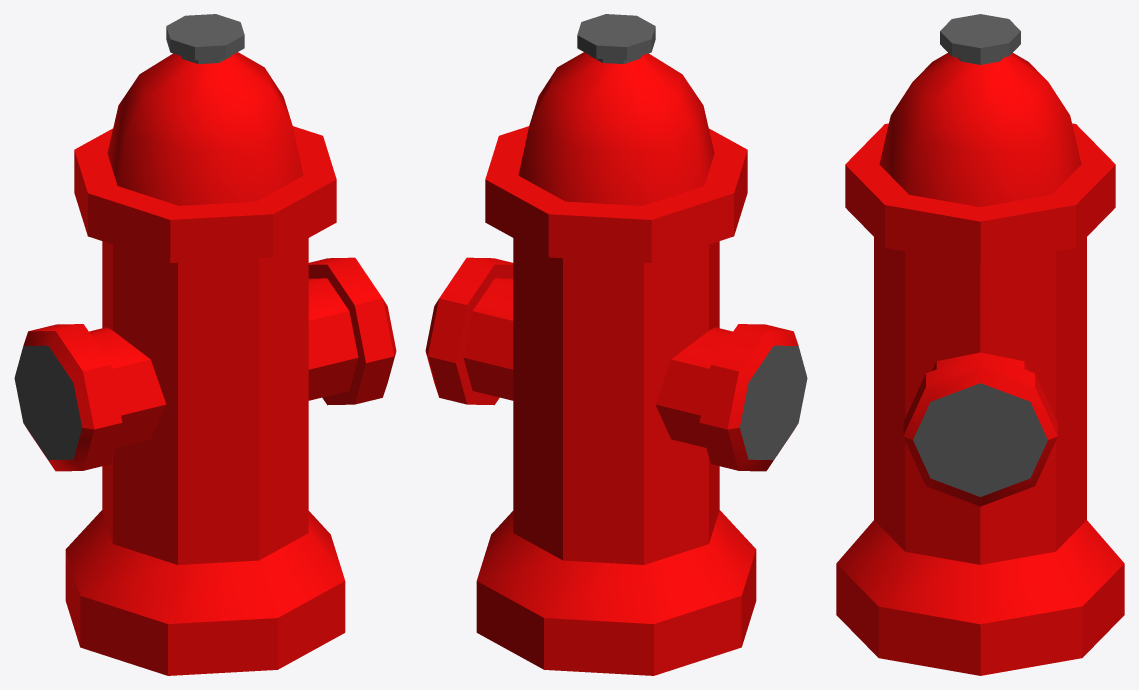
The model's file is SM_Hydrant_01.FBX.
3 views of the same model, side by side, from view 1: azimuth 30°, elevation 25°; view 2: azimuth 150°, elevation 25°; view 3: azimuth 270°, elevation 25° (orthographic).
Visible parts, largest first — view 1: SM_Hydrant_01; view 2: SM_Hydrant_01; view 3: SM_Hydrant_01.
Boxes of the visible parts, box(x1,y1,x2,y2) form: SM_Hydrant_01: box(14, 14, 396, 675); SM_Hydrant_01: box(425, 14, 807, 675); SM_Hydrant_01: box(836, 14, 1124, 675).
Size of the model in its own units: 0.3691 by 0.658 by 0.2944.
Materials: 1 (1 with a texture image).
